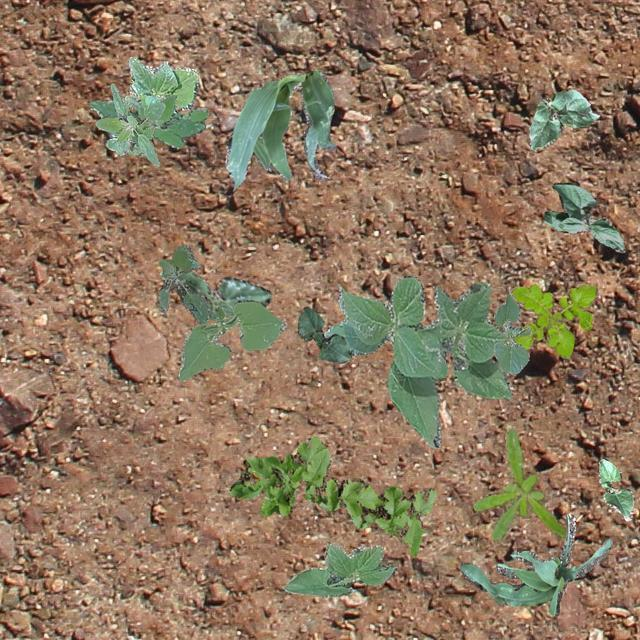crop: (322, 274, 512, 448), (458, 512, 612, 614), (224, 68, 334, 190), (176, 300, 286, 380), (282, 540, 396, 596), (94, 82, 164, 166), (542, 182, 624, 252), (160, 270, 270, 318), (121, 56, 198, 112), (528, 88, 598, 148), (492, 290, 532, 372), (298, 306, 350, 362), (598, 458, 632, 520)
weed: (228, 434, 436, 556), (472, 426, 566, 542), (88, 94, 208, 148), (511, 282, 596, 358), (156, 244, 208, 324)
